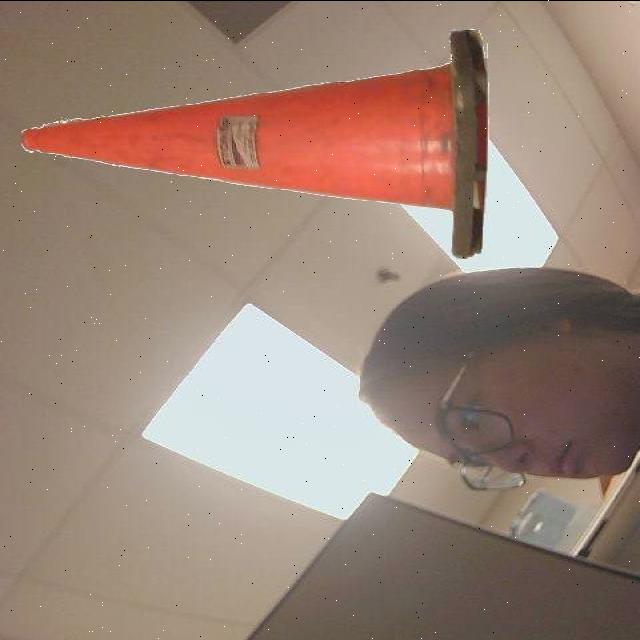traffic cone: (10, 16, 494, 268)
